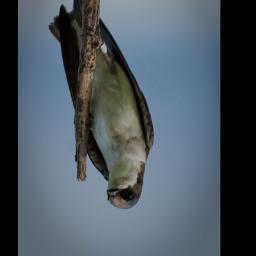Swallow: (47, 0, 154, 210)
